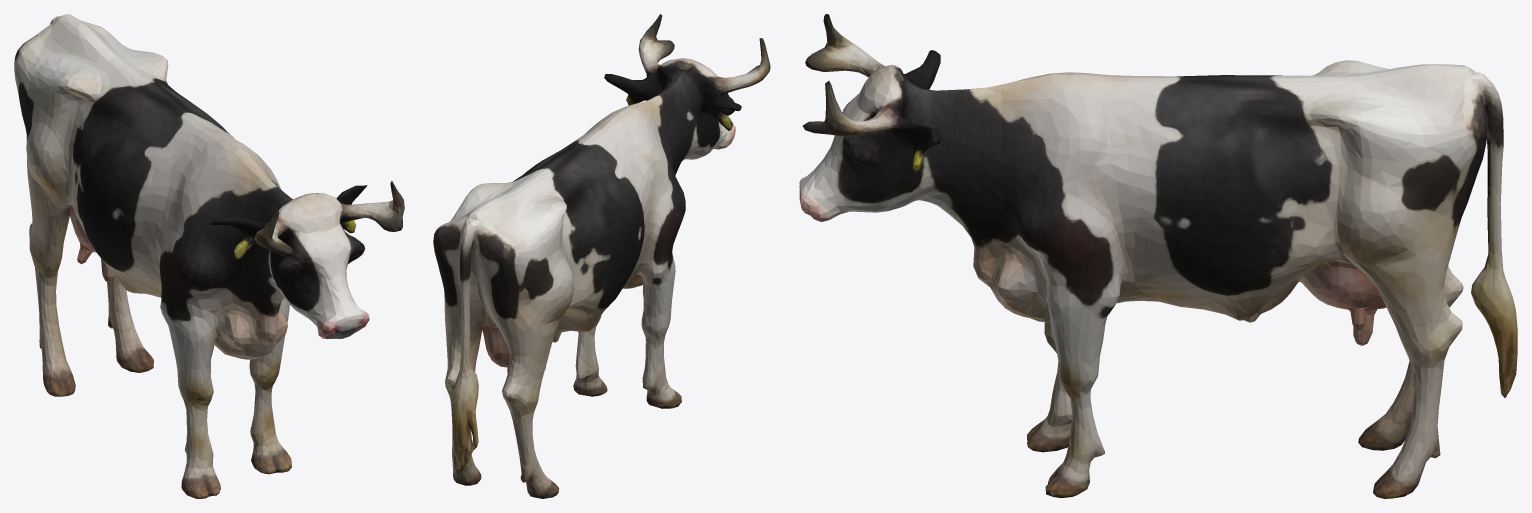
File: cow.glb
The picture shows the model from 3 angles, left to right: view 1: azimuth 30°, elevation 25°; view 2: azimuth 150°, elevation 25°; view 3: azimuth 270°, elevation 25°; orthographic projection. The views are drawn at different scales.
Visible parts, largest first — view 1: geometry_0; view 2: geometry_0; view 3: geometry_0.
Part boxes in pixels (x1,y1,x2,y2): geometry_0: (14, 14, 404, 498); geometry_0: (433, 14, 770, 498); geometry_0: (799, 14, 1517, 498).
Size of the model in its own units: 0.2985 by 0.6481 by 0.9994.
Materials: 1 (1 with a texture image).
